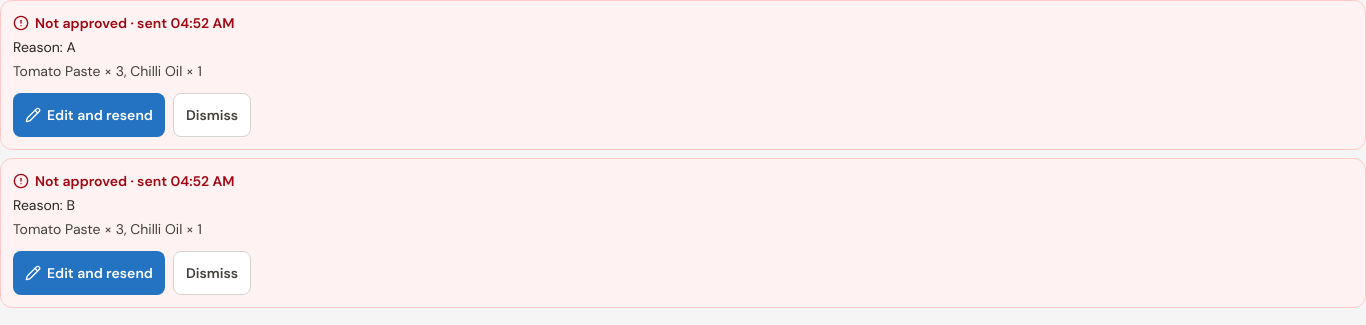
Test: NotApprovedCard › Edit and resend › acts on the card whose button was pressed
Click the button "Edit and resend" below "Reason: B". click: coordinates (89, 273)
box: [13,251,165,295]
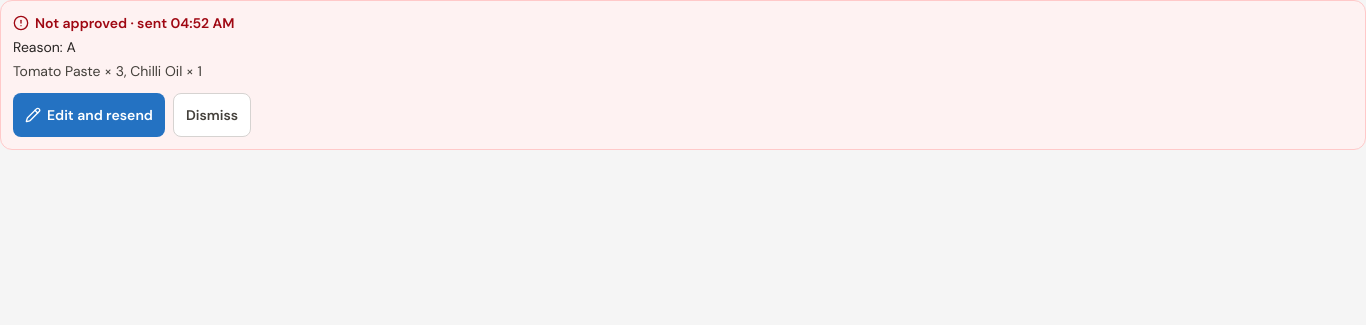
Expected: the text "Reason: A" is shown, [13,38,76,56]
Now the text "Reason: B" is gone
